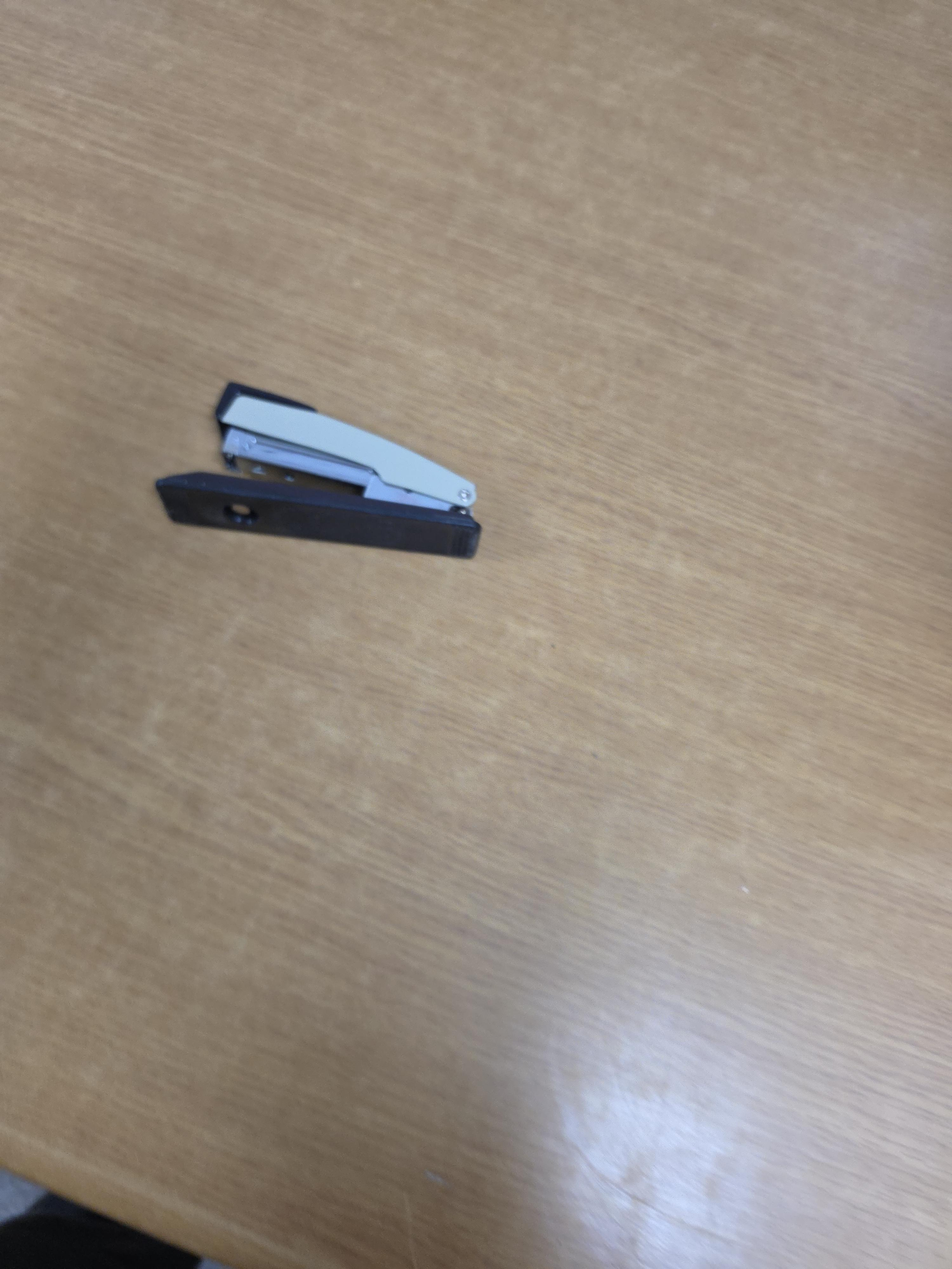stapler: (154, 379, 483, 558)
